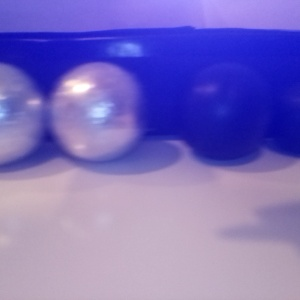alive_ball: (140, 87, 268, 214), (1, 109, 26, 239)
dead_ball: (141, 34, 254, 140), (250, 65, 300, 162)
